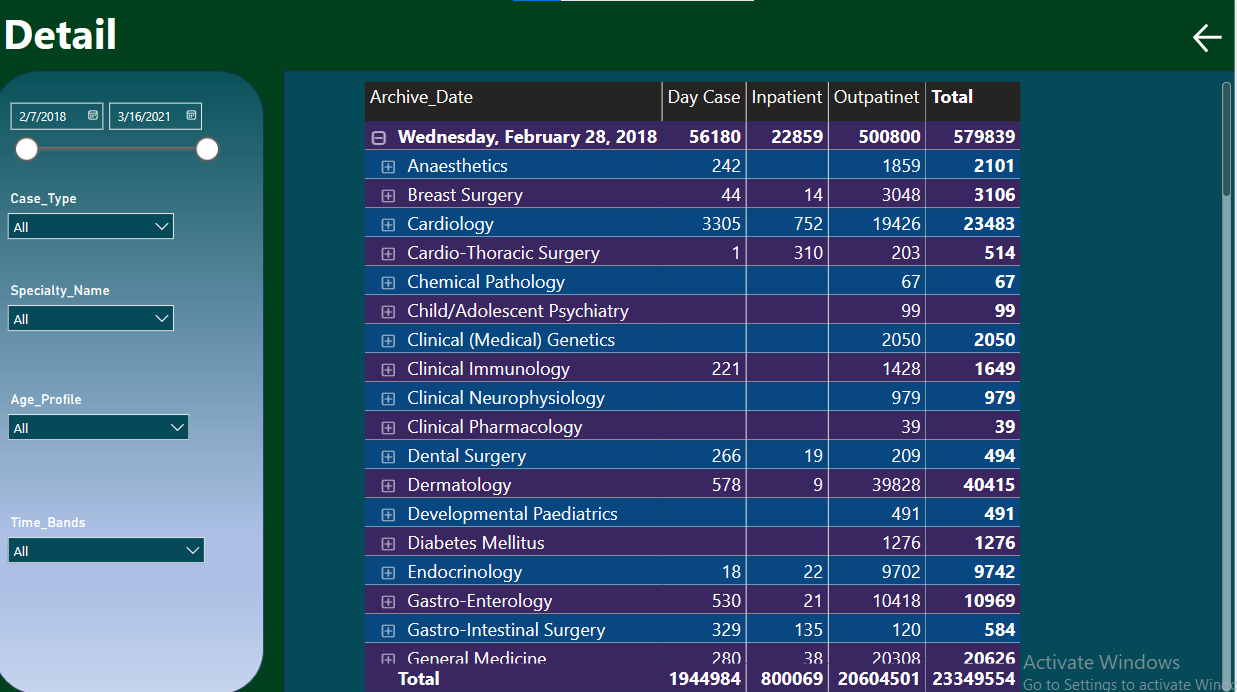

The dashboard page shown, as its layout file describes it:
{"tool":"powerbi","page":{"name":"Detail","canvas":[1280,720],"ordinal":1},"visuals":[{"type":"slicer","fields":{"Values":["All_Data.Case_Type"]},"box":[0,192,192,80],"z":0},{"type":"slicer","fields":{"Values":["All_Data.Specialty_Name"]},"box":[0,288,192,80],"z":1000},{"type":"textbox","box":[0,0,240,80],"z":2000},{"type":"slicer","fields":{"Values":["All_Data.Archive_Date"]},"box":[0,96,240,80],"z":3000},{"type":"slicer","fields":{"Values":["All_Data.Age_Profile"]},"box":[0,400,208,144],"z":4000},{"type":"slicer","fields":{"Values":["All_Data.Time_Bands"]},"box":[0,528,224,144],"z":5000},{"type":"pivotTable","fields":{"Rows":["All_Data.Archive_Date","All_Data.Specialty_Name","All_Data.Age_Profile","All_Data.Time_Bands"],"Columns":["All_Data.Case_Type"],"Values":["Sum(All_Data.Total)"]},"box":[374.2,79.4,905.7,640.6],"z":6000},{"type":"actionButton","box":[1231.7,19.8,48.2,39.7],"z":7000}]}

Visuals, with their boxes on the page's 1280x720 design canvas (x1, y1, x2, y2). These are canvas units, not pixel positions in the 1237x692 screenshot, which may show the page scaled, cropped or inside an application window:
slicer - All_Data.Case_Type: box=[0, 192, 192, 272]
slicer - All_Data.Specialty_Name: box=[0, 288, 192, 368]
textbox: box=[0, 0, 240, 80]
slicer - All_Data.Archive_Date: box=[0, 96, 240, 176]
slicer - All_Data.Age_Profile: box=[0, 400, 208, 544]
slicer - All_Data.Time_Bands: box=[0, 528, 224, 672]
pivotTable - All_Data.Archive_Date x All_Data.Specialty_Name: box=[374, 79, 1280, 720]
actionButton: box=[1232, 20, 1280, 60]
